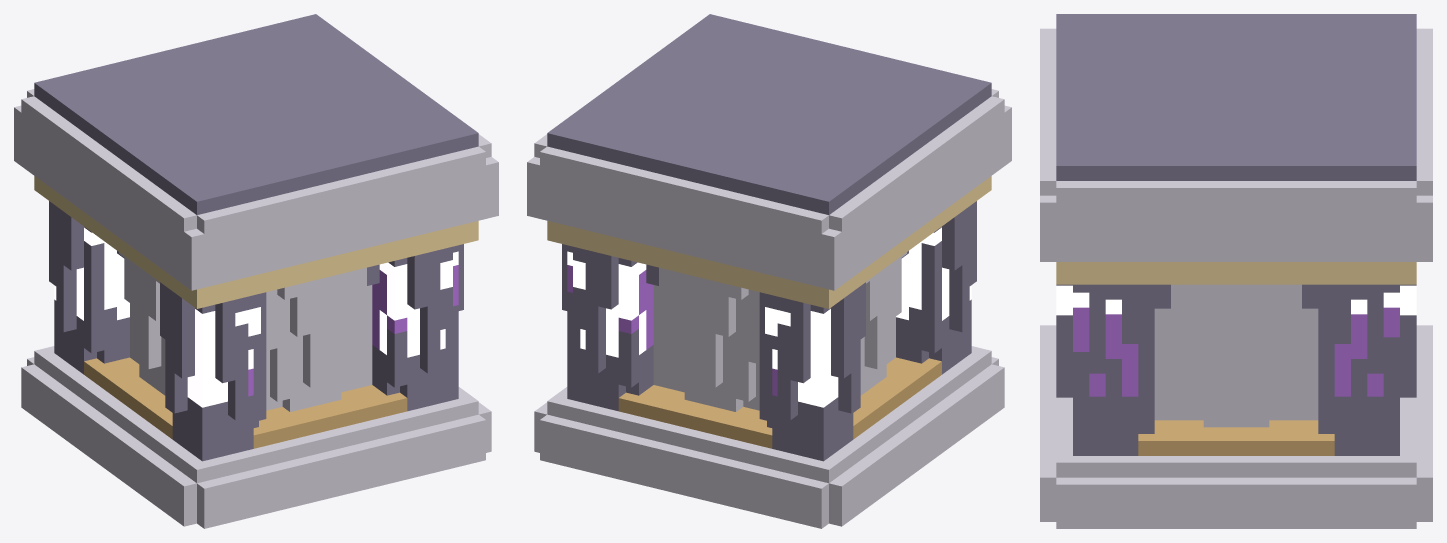
Rendered from amethyst_capital.glb.
The picture shows the model from 3 angles, left to right: view 1: azimuth 30°, elevation 25°; view 2: azimuth 150°, elevation 25°; view 3: azimuth 270°, elevation 25°; orthographic projection. The views are drawn at different scales.
Bounding box in the file's own units: 1 × 1 × 1.
